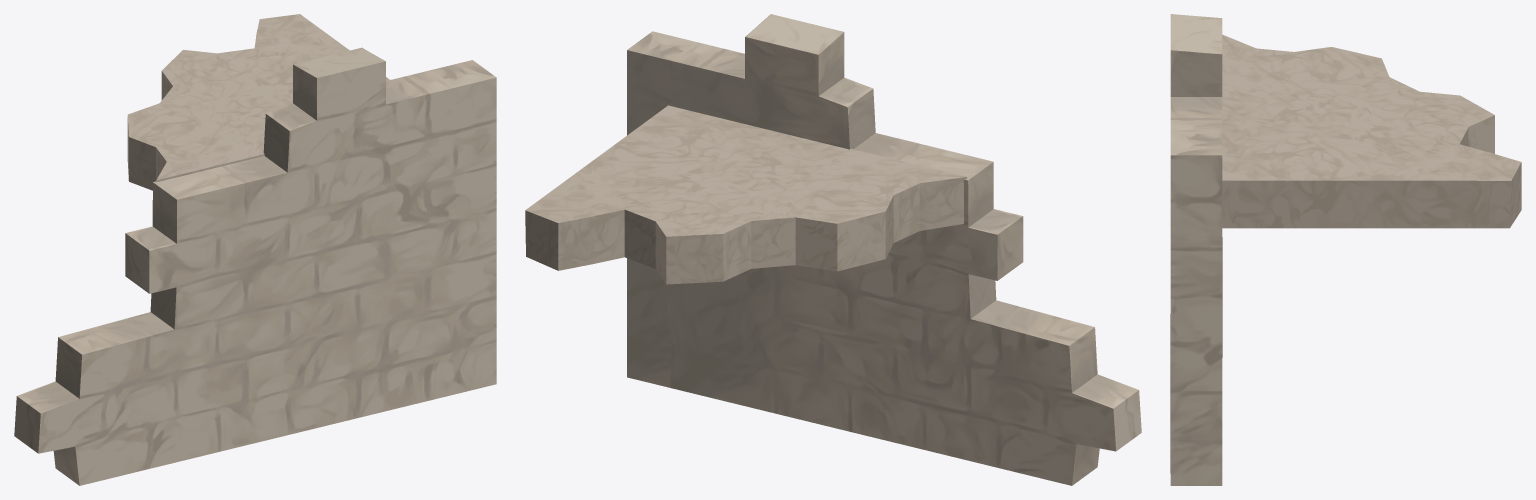
The model's file is pol_sufit.obj.
3 renders of one model, left to right at view 1: azimuth 30°, elevation 25°; view 2: azimuth 150°, elevation 25°; view 3: azimuth 270°, elevation 25°, orthographic. The views are drawn at different scales.
Visible parts, largest first — view 1: lowpoly1.002; view 2: lowpoly1.002; view 3: lowpoly1.002.
Boxes of the visible parts, left/top/right/bottom form: lowpoly1.002: left=14, top=14, right=496, bottom=485; lowpoly1.002: left=525, top=14, right=1141, bottom=485; lowpoly1.002: left=1170, top=14, right=1521, bottom=485.
Size of the model in its own units: 46.55 by 33.96 by 28.63.
2 materials, 2 textured.
